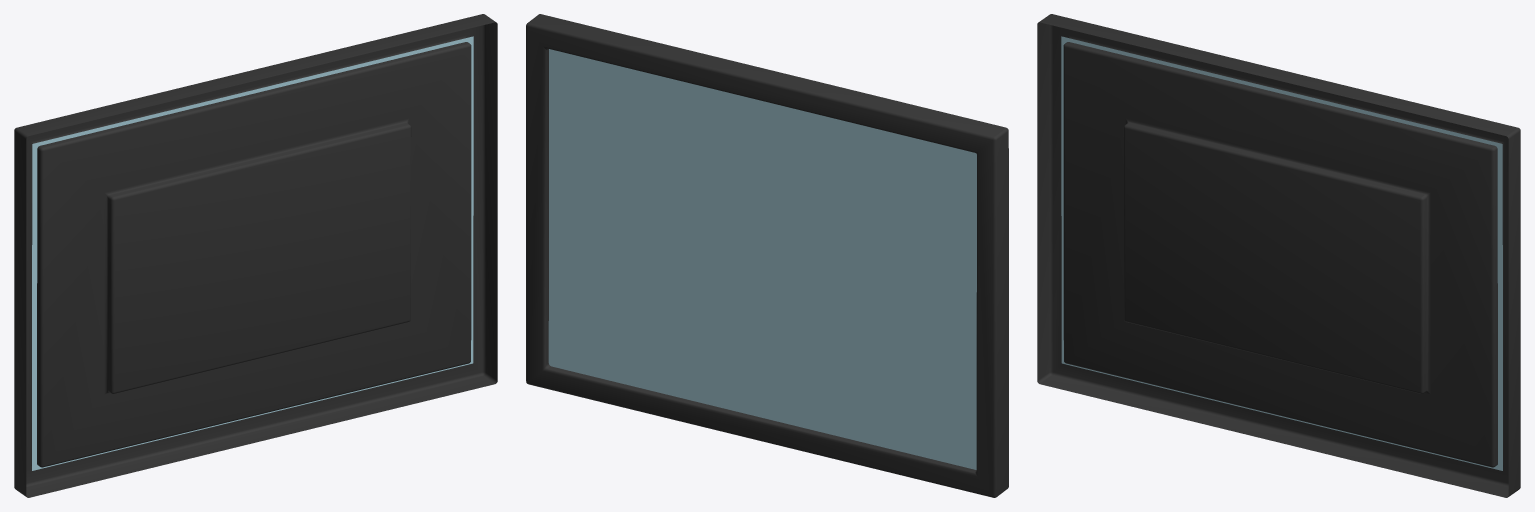
File: VP_Picture_Frames_04.FBX
3 views of the same model, side by side, from view 1: azimuth 30°, elevation 25°; view 2: azimuth 150°, elevation 25°; view 3: azimuth 330°, elevation 25° (orthographic).
Visible parts, largest first — view 1: VP_Picture_Frames_04; view 2: VP_Picture_Frames_04; view 3: VP_Picture_Frames_04.
Part boxes in pixels (x1,y1,x2,y2): VP_Picture_Frames_04: (14, 14, 497, 497); VP_Picture_Frames_04: (526, 14, 1008, 497); VP_Picture_Frames_04: (1037, 14, 1520, 497).
Size of what is drawn, in the model's own units: 58.39 by 2.91 by 42.87.
